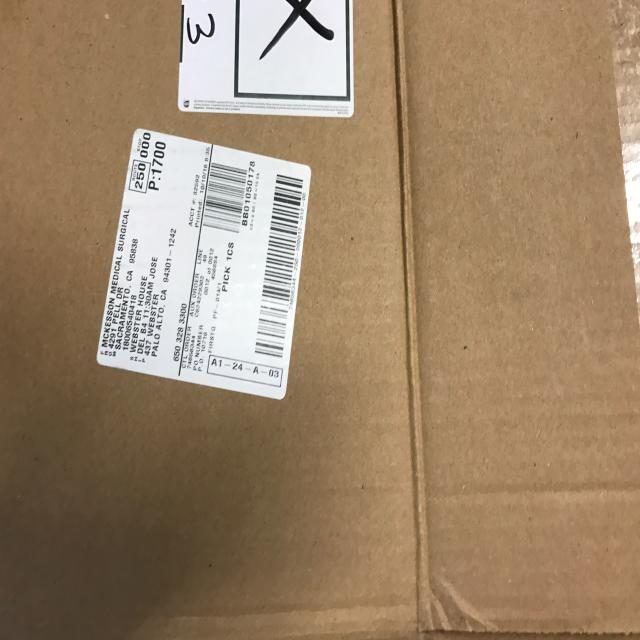cardboard: (96, 127, 311, 400)
